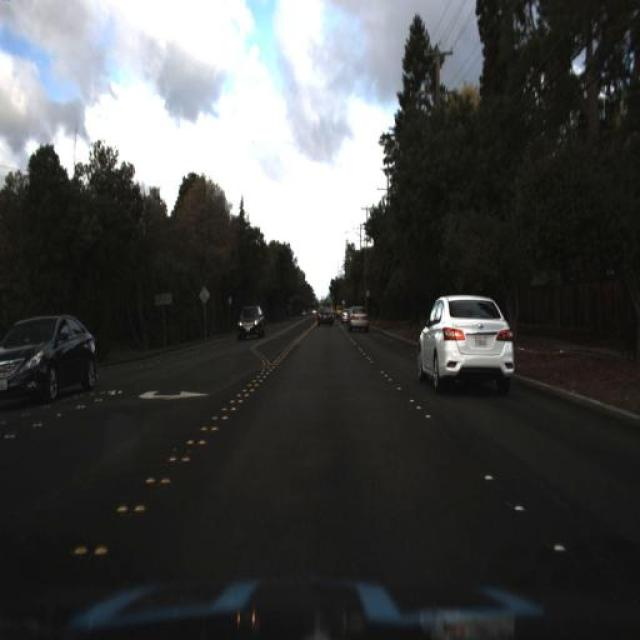car: (418, 285, 522, 410), (0, 310, 100, 406), (236, 302, 262, 347), (345, 304, 369, 338), (314, 306, 334, 330)
